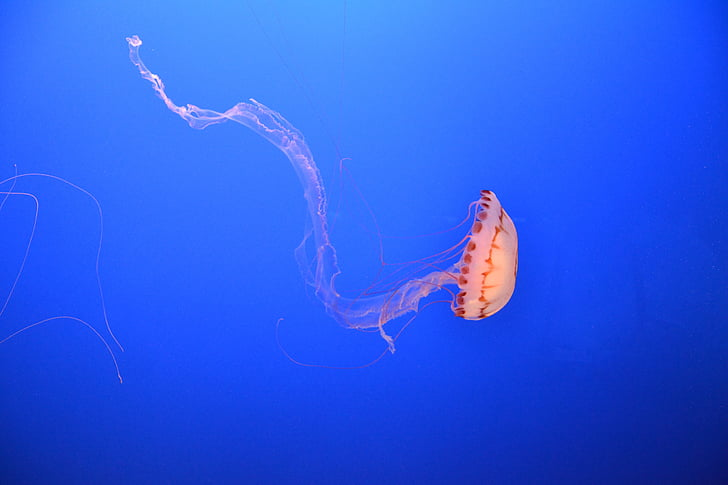jellyfish: (140, 68, 528, 343)
